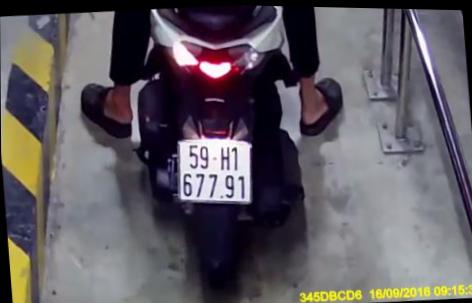LP: (171, 132, 256, 209)
